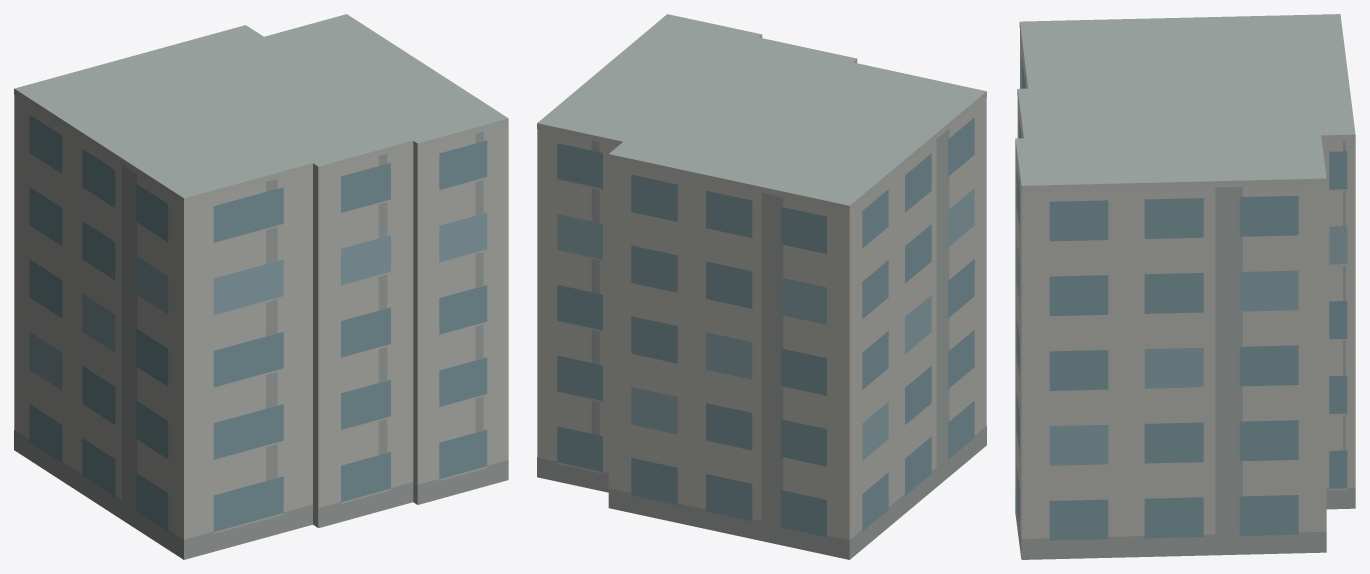
File: survey-upis-32782061.glb
3 views of the same model, side by side, from view 1: azimuth 30°, elevation 25°; view 2: azimuth 150°, elevation 25°; view 3: azimuth 270°, elevation 25° (orthographic). The views are drawn at different scales.
Visible parts, largest first — view 1: survey-upis-32782061.tmp; view 2: survey-upis-32782061.tmp; view 3: survey-upis-32782061.tmp.
Boxes of the visible parts, <box> form: survey-upis-32782061.tmp: <box>14,14,508,559</box>; survey-upis-32782061.tmp: <box>537,14,986,559</box>; survey-upis-32782061.tmp: <box>1015,14,1355,559</box>.
Bounding box in the file's own units: 14.34 × 14.55 × 12.
